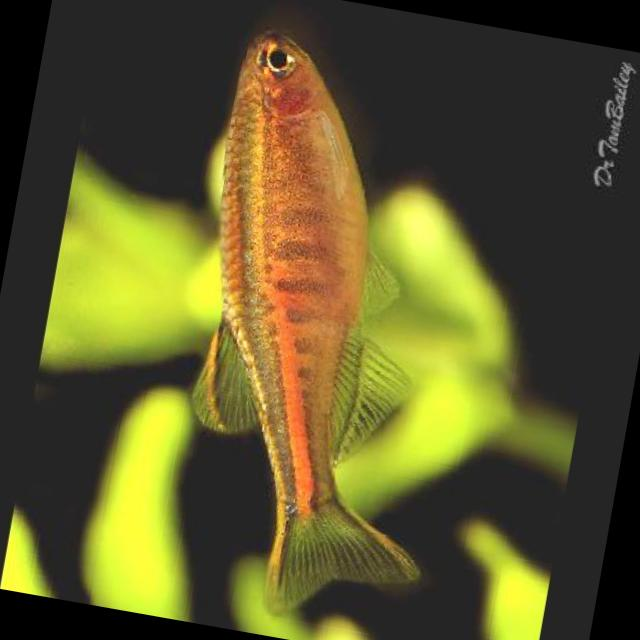ZebraFish: (143, 14, 500, 627)
